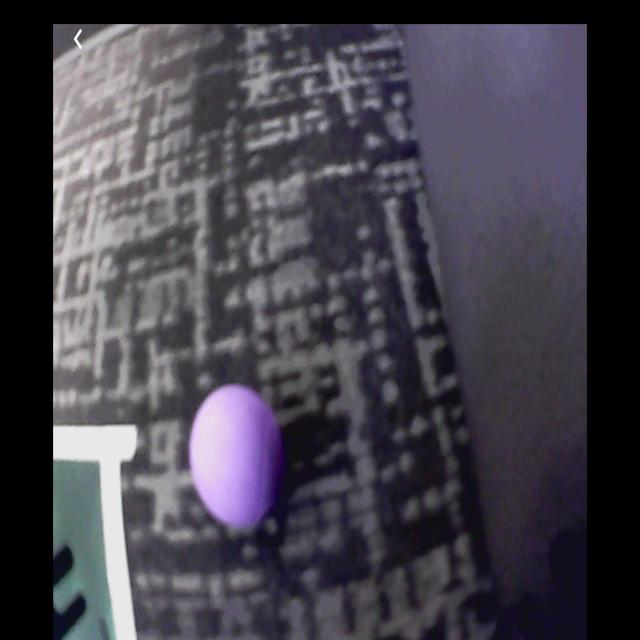ball: (191, 385, 284, 534)
